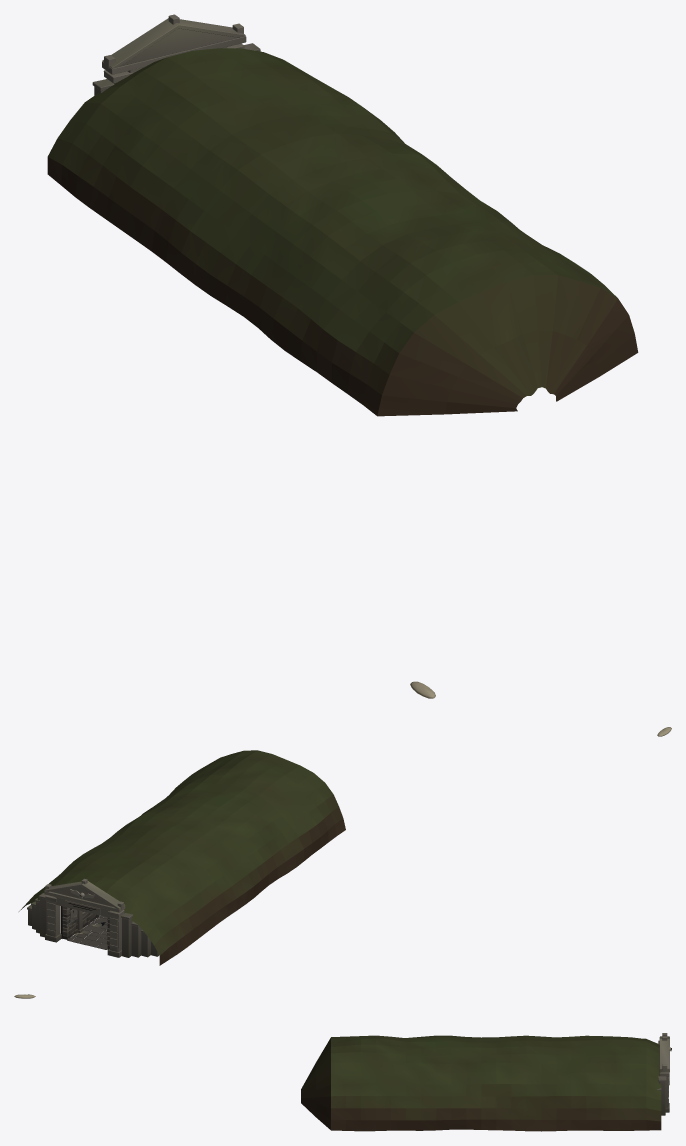
File: catacombs.glb
3 renders of one model, top to bottom at view 1: azimuth 30°, elevation 25°; view 2: azimuth 150°, elevation 25°; view 3: azimuth 270°, elevation 25°, orthographic. The views are drawn at different scales.
Parts seen in each view (by area): view 1: catacombs-mound, catacombs-portal; view 2: catacombs-mound, catacombs-portal, catacombs-floor, catacombs-walls; view 3: catacombs-mound, catacombs-portal.
Part boxes in pixels (bbox=[...]): catacombs-mound: bbox=[47, 48, 638, 416]; catacombs-portal: bbox=[92, 14, 260, 95]; catacombs-mound: bbox=[19, 750, 345, 965]; catacombs-portal: bbox=[27, 878, 159, 957]; catacombs-floor: bbox=[67, 915, 107, 949]; catacombs-walls: bbox=[61, 906, 109, 949]; catacombs-mound: bbox=[301, 1035, 661, 1131]; catacombs-portal: bbox=[657, 1033, 671, 1115].
Size of the model in its own units: 18.62 by 4.13 by 39.9.
